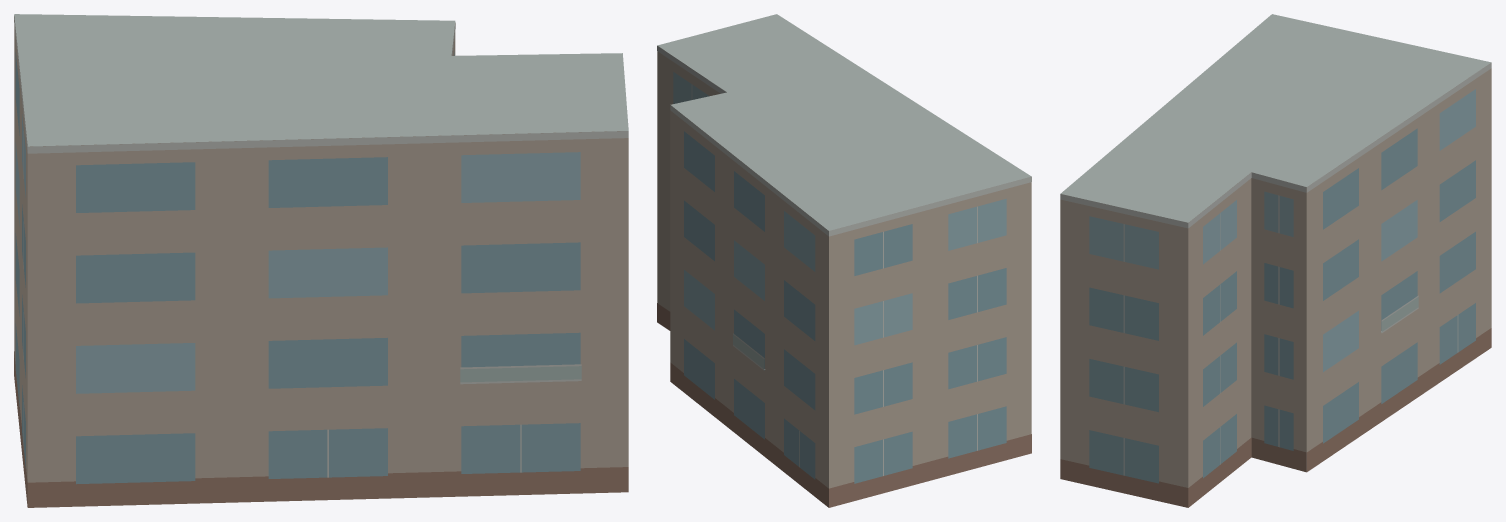
File: survey-upis-32766131.glb
The picture shows the model from 3 angles, left to right: view 1: azimuth 30°, elevation 25°; view 2: azimuth 150°, elevation 25°; view 3: azimuth 270°, elevation 25°; orthographic projection. The views are drawn at different scales.
Visible parts, largest first — view 1: survey-upis-32766131.tmp; view 2: survey-upis-32766131.tmp; view 3: survey-upis-32766131.tmp.
Part boxes in pixels (left/top/right/bottom): survey-upis-32766131.tmp: left=14, top=14, right=628, bottom=507; survey-upis-32766131.tmp: left=657, top=14, right=1031, bottom=507; survey-upis-32766131.tmp: left=1060, top=14, right=1491, bottom=507.
Size of the model in its own units: 19.16 by 12.2 by 16.73.
